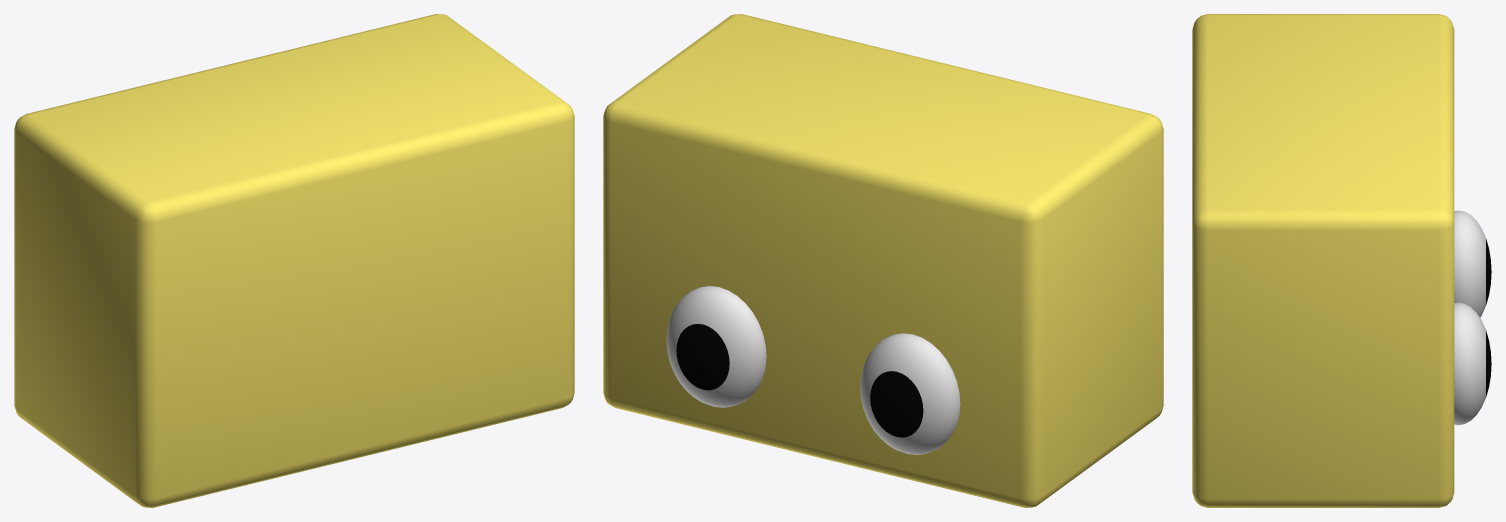
The model's file is MASLO.fbx.
3 renders of one model, left to right at view 1: azimuth 30°, elevation 25°; view 2: azimuth 150°, elevation 25°; view 3: azimuth 270°, elevation 25°, orthographic. The views are drawn at different scales.
Visible parts, largest first — view 1: Cube; view 2: Cube, Sphere; view 3: Cube, Sphere.
Part boxes in pixels (x1=…): Cube: x1=14, y1=14, x2=574, y2=507; Cube: x1=603, y1=14, x2=1163, y2=507; Sphere: x1=666, y1=286, x2=960, y2=454; Cube: x1=1192, y1=14, x2=1454, y2=507; Sphere: x1=1454, y1=210, x2=1491, y2=425.
Size of the model in its own units: 253 by 154 by 169.
